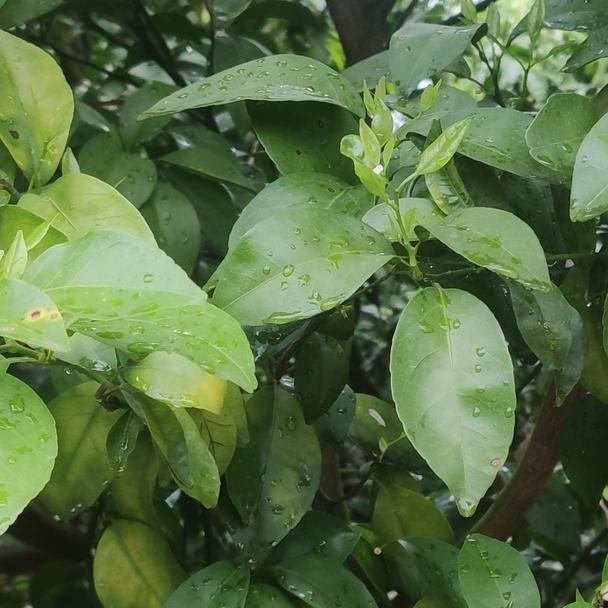shoot: (343, 69, 459, 199)
